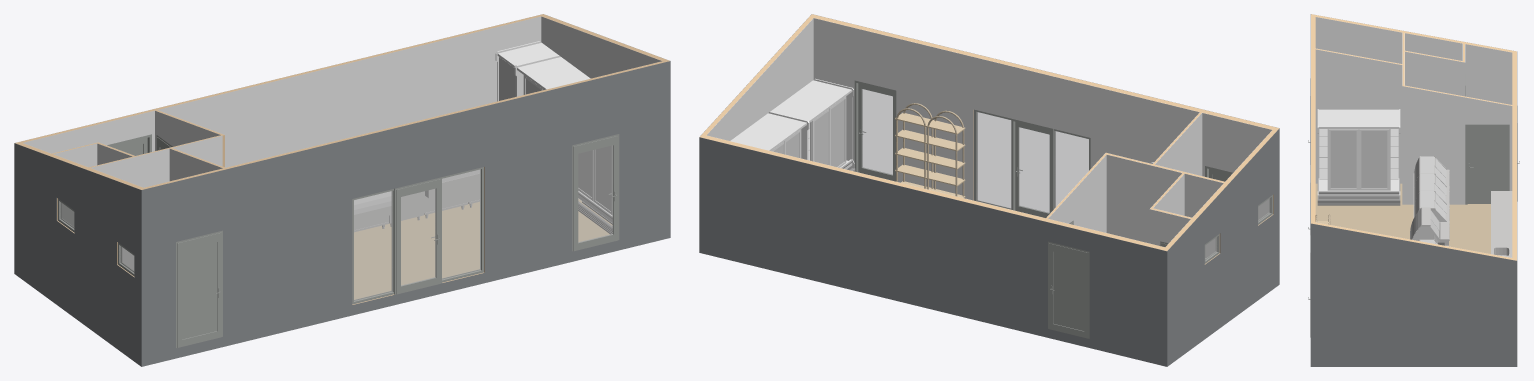
File: Valkininkai_Mėsos krautuvėlė_R02.fbx
3 views of the same model, side by side, from view 1: azimuth 30°, elevation 25°; view 2: azimuth 150°, elevation 25°; view 3: azimuth 270°, elevation 25° (orthographic). The views are drawn at different scales.
Visible parts, largest first — view 1: IfcWall/Part:2405523, IfcWall/Part:2405279, IfcWall/Part:2405271, IfcSlab/Part:2405282, IfcDoor/Simple_vitree_-_03:1000x2300:2318509, IfcDoor/Simple_vitree_-_03:1000x2300:2319070, IfcDoor/Simple_vitree_-_03:1000x2300 nepermatomos durys:2319, IfcWindow/Aluprof_MB-86-SI_E_Alu_Window-1sash-FIX_ENG_R-0004, IfcWindow/Aluprof_MB-86-SI_E_Alu_Window-1sash-FIX_ENG_R-000, IfcWall/Part:2405276, IfcBuildingElementProxy/Freezer_-_Upright_Two_Door:62" Lengt, IfcWall/Part:2405264 (+13 smaller); view 2: IfcWall/Part:2405280, IfcWall/Part:2405522, IfcWall/Part:2405271, IfcBuildingElementProxy/Freezer_-_Upright_Two_Door:62" Lengt, IfcWall/Part:2405276, IfcWall/Part:2405263, IfcDoor/Simple_vitree_-_03:1000x2300:2318509, IfcDoor/Simple_vitree_-_03:1000x2300:2319070, IfcDoor/Simple_vitree_-_03:1000x2100:2321252, IfcWindow/Aluprof_MB-86-SI_E_Alu_Window-1sash-FIX_ENG_R-000, IfcWall/Part:2410921, IfcBuildingElementProxy/Freezer_-_Upright_Two_Door:62" Leng (+11 smaller); view 3: IfcWall/Part:2405277, IfcBuildingElementProxy/Freezer_-_Upright_Two_Door:62" Leng., IfcWall/Part:2405268, IfcWall/Part:2405270, IfcWall/Part:2405260, IfcSlab/Part:2405282, IfcDoor/Simple_vitree_-_03:1000x2100:2319457, IfcWall/Part:2405257, IfcBuildingElementProxy/Food_Service_Equipment-Display_Case. (×3), IfcFurnishingElement/Workshop countertop6:Workshop counterto, IfcWall/Part:2405281, IfcBuildingElementProxy/Food_Service_Equipment-Display_Case- (+6 smaller).
Part boxes in pixels (left/top/right/bottom): IfcWall/Part:2405523: left=141, top=61, right=670, bottom=366; IfcWall/Part:2405279: left=23, top=16, right=541, bottom=167; IfcWall/Part:2405271: left=14, top=143, right=141, bottom=366; IfcSlab/Part:2405282: left=354, top=199, right=612, bottom=299; IfcDoor/Simple_vitree_-_03:1000x2300:2318509: left=392, top=177, right=441, bottom=294; IfcDoor/Simple_vitree_-_03:1000x2300:2319070: left=572, top=134, right=619, bottom=251; IfcDoor/Simple_vitree_-_03:1000x2300 nepermatomos durys:2319: left=176, top=230, right=222, bottom=347; IfcWindow/Aluprof_MB-86-SI_E_Alu_Window-1sash-FIX_ENG_R-0004: left=352, top=189, right=394, bottom=304; IfcWindow/Aluprof_MB-86-SI_E_Alu_Window-1sash-FIX_ENG_R-000: left=442, top=167, right=483, bottom=282; IfcWall/Part:2405276: left=541, top=16, right=662, bottom=78; IfcBuildingElementProxy/Freezer_-_Upright_Two_Door:62" Lengt: left=578, top=145, right=612, bottom=234; IfcWall/Part:2405264: left=91, top=148, right=169, bottom=270; IfcWall/Part:2405280: left=699, top=137, right=1167, bottom=366; IfcWall/Part:2405522: left=813, top=18, right=1271, bottom=219; IfcWall/Part:2405271: left=1167, top=128, right=1279, bottom=366; IfcBuildingElementProxy/Freezer_-_Upright_Two_Door:62" Lengt: left=770, top=78, right=855, bottom=171; IfcWall/Part:2405276: left=707, top=18, right=813, bottom=140; IfcWall/Part:2405263: left=1106, top=154, right=1182, bottom=243; IfcDoor/Simple_vitree_-_03:1000x2300:2318509: left=1011, top=118, right=1054, bottom=217; IfcDoor/Simple_vitree_-_03:1000x2300:2319070: left=854, top=80, right=896, bottom=181; IfcDoor/Simple_vitree_-_03:1000x2100:2321252: left=1048, top=241, right=1089, bottom=338; IfcWindow/Aluprof_MB-86-SI_E_Alu_Window-1sash-FIX_ENG_R-000: left=974, top=109, right=1015, bottom=209; IfcWall/Part:2410921: left=1048, top=155, right=1106, bottom=232; IfcBuildingElementProxy/Freezer_-_Upright_Two_Door:62" Leng: left=730, top=111, right=808, bottom=159; IfcWall/Part:2405277: left=1310, top=223, right=1516, bottom=366; IfcBuildingElementProxy/Freezer_-_Upright_Two_Door:62" Leng.: left=1317, top=109, right=1400, bottom=205; IfcWall/Part:2405268: left=1402, top=86, right=1512, bottom=204; IfcWall/Part:2405270: left=1315, top=17, right=1512, bottom=104; IfcWall/Part:2405260: left=1315, top=49, right=1402, bottom=183; IfcSlab/Part:2405282: left=1315, top=183, right=1490, bottom=253; IfcDoor/Simple_vitree_-_03:1000x2100:2319457: left=1465, top=124, right=1509, bottom=204; IfcWall/Part:2405257: left=1405, top=51, right=1465, bottom=96; IfcBuildingElementProxy/Food_Service_Equipment-Display_Case. (×3): left=1413, top=156, right=1449, bottom=221; IfcFurnishingElement/Workshop countertop6:Workshop counterto: left=1491, top=191, right=1512, bottom=240; IfcWall/Part:2405281: left=1512, top=50, right=1516, bottom=260; IfcBuildingElementProxy/Food_Service_Equipment-Display_Case-: left=1410, top=207, right=1449, bottom=245.
Bounding box in the file's own units: 1200 × 383 × 512.
